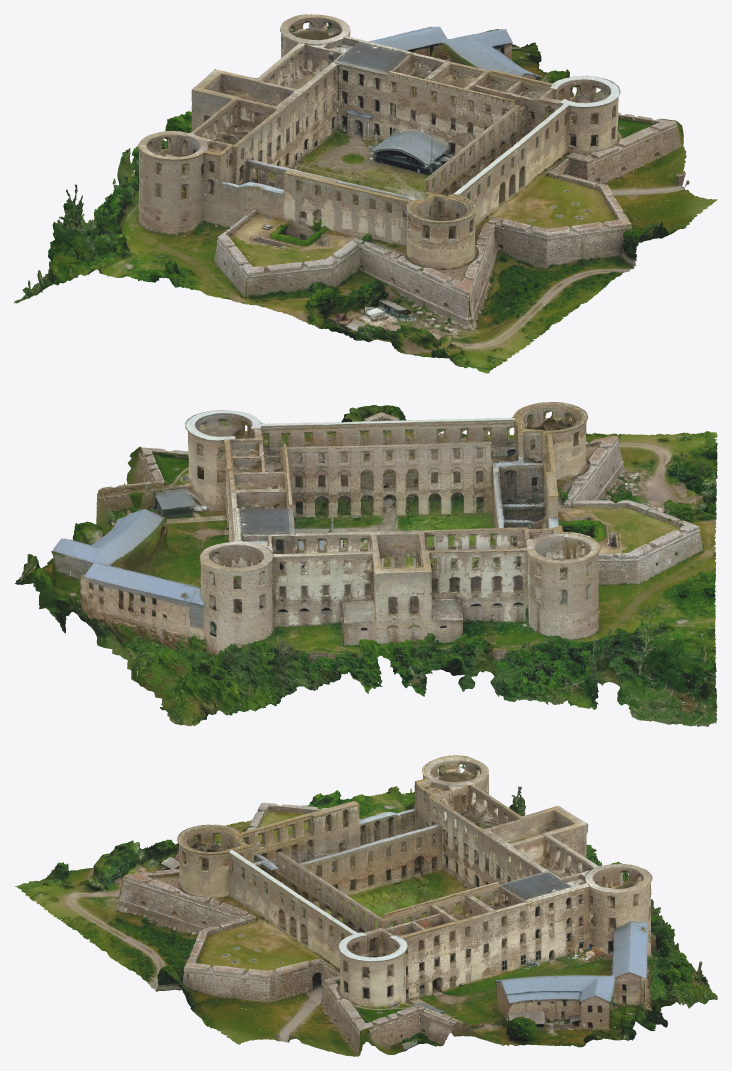
Rendered from sf-borgholms-slottsruin-bac87e.glb.
The picture shows the model from 3 angles, top to bottom: view 1: azimuth 30°, elevation 25°; view 2: azimuth 150°, elevation 25°; view 3: azimuth 270°, elevation 25°; orthographic projection. The views are drawn at different scales.
Parts seen in each view (by area): view 1: Model_material2_0, Model_material0_0, Model_material1_0; view 2: Model_material1_0, Model_material2_0, Model_material0_0; view 3: Model_material0_0, Model_material2_0, Model_material1_0.
Boxes of the visible parts, x1=… form: Model_material2_0: x1=33, y1=14, x2=703, y2=353; Model_material0_0: x1=14, y1=14, x2=717, y2=364; Model_material1_0: x1=22, y1=14, x2=666, y2=373; Model_material1_0: x1=15, y1=407, x2=717, y2=726; Model_material2_0: x1=50, y1=405, x2=716, y2=725; Model_material0_0: x1=29, y1=402, x2=717, y2=726; Model_material0_0: x1=45, y1=756, x2=708, y2=1056; Model_material2_0: x1=67, y1=756, x2=717, y2=1054; Model_material1_0: x1=15, y1=755, x2=716, y2=1045.
Size of the model in its own units: 38.2 by 7.7 by 39.64.
Materials: 3 (3 with a texture image).
